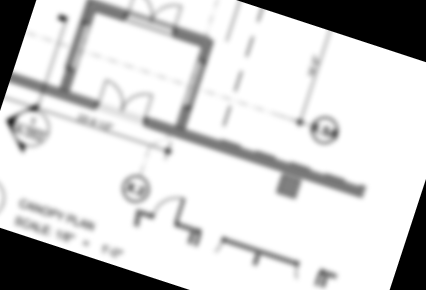door: (149, 188, 189, 227)
double door: (95, 77, 155, 123), (124, 0, 184, 32)
wall: (140, 114, 370, 200), (10, 72, 101, 112), (220, 234, 303, 269), (82, 0, 129, 23), (172, 27, 216, 51), (78, 0, 101, 29), (56, 65, 79, 94), (172, 102, 195, 131), (195, 35, 216, 65), (128, 209, 146, 230), (320, 267, 343, 283), (175, 221, 200, 235), (249, 250, 265, 269), (133, 207, 153, 220), (318, 274, 330, 290), (187, 230, 198, 247)
window: (63, 19, 97, 74), (179, 58, 211, 112)
